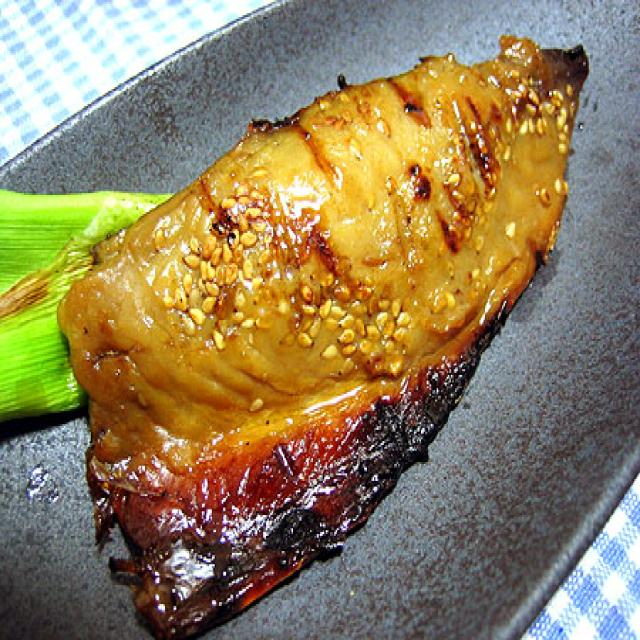熟制海鲜: (57, 38, 593, 640)
